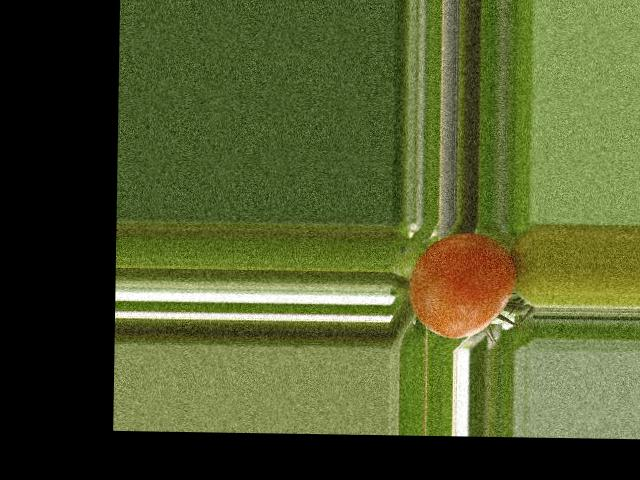tomato: (408, 232, 517, 339)
